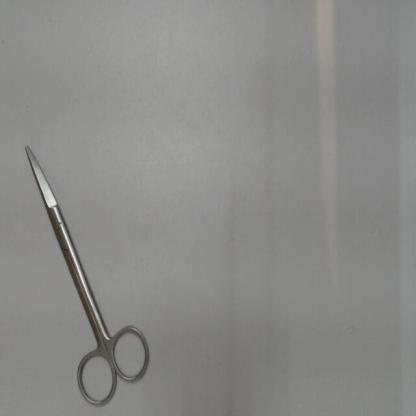Curved Mayo Scissors: (19, 137, 160, 414)
